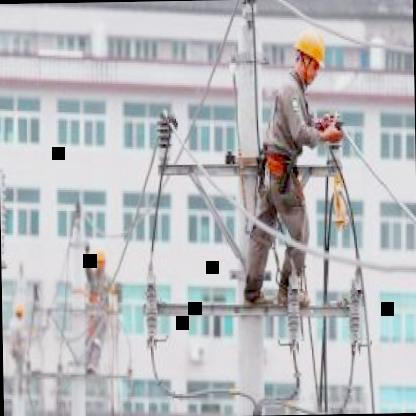helmet: (290, 22, 328, 86), (93, 248, 108, 271)
